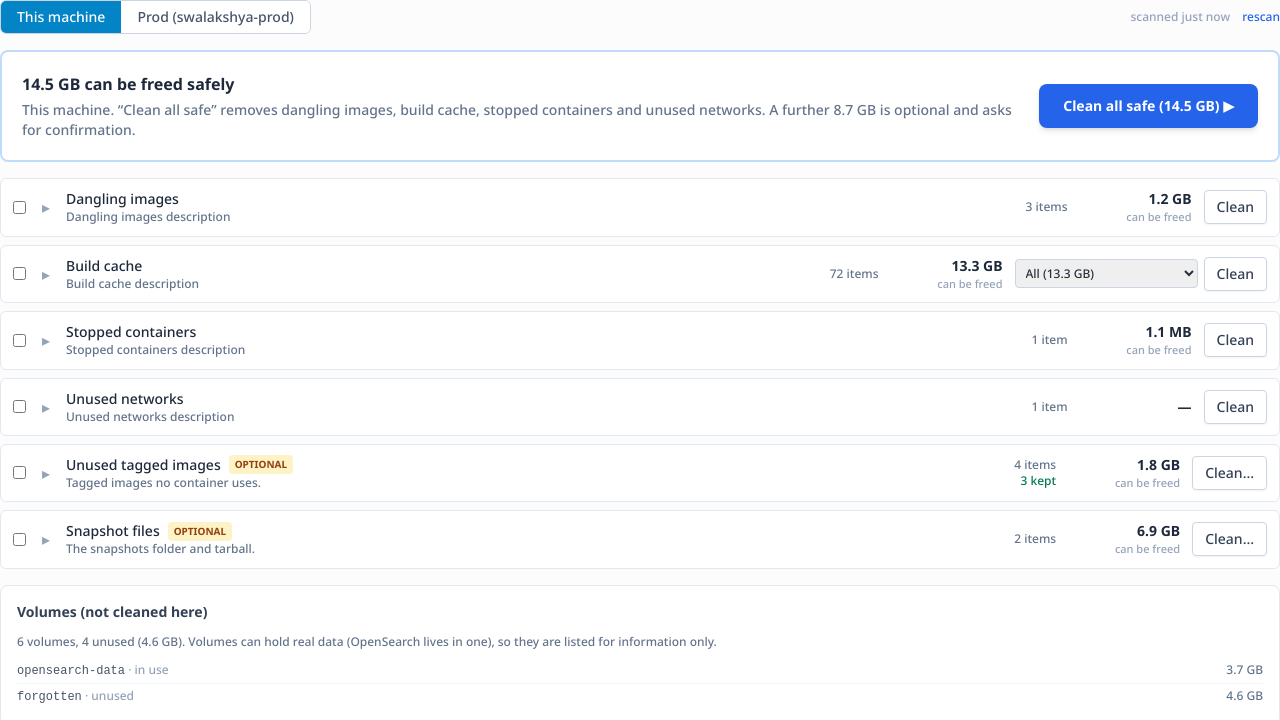
Test: the confirmation for removing images says which ones are kept
Expected: the heading "14.5 GB can be freed safely" is shown, x1=22 y1=73 x2=234 y2=95
Click the button "Clean…" next to "1.8 GB": [1230, 473] box x1=1192 y1=456 x2=1267 y2=490
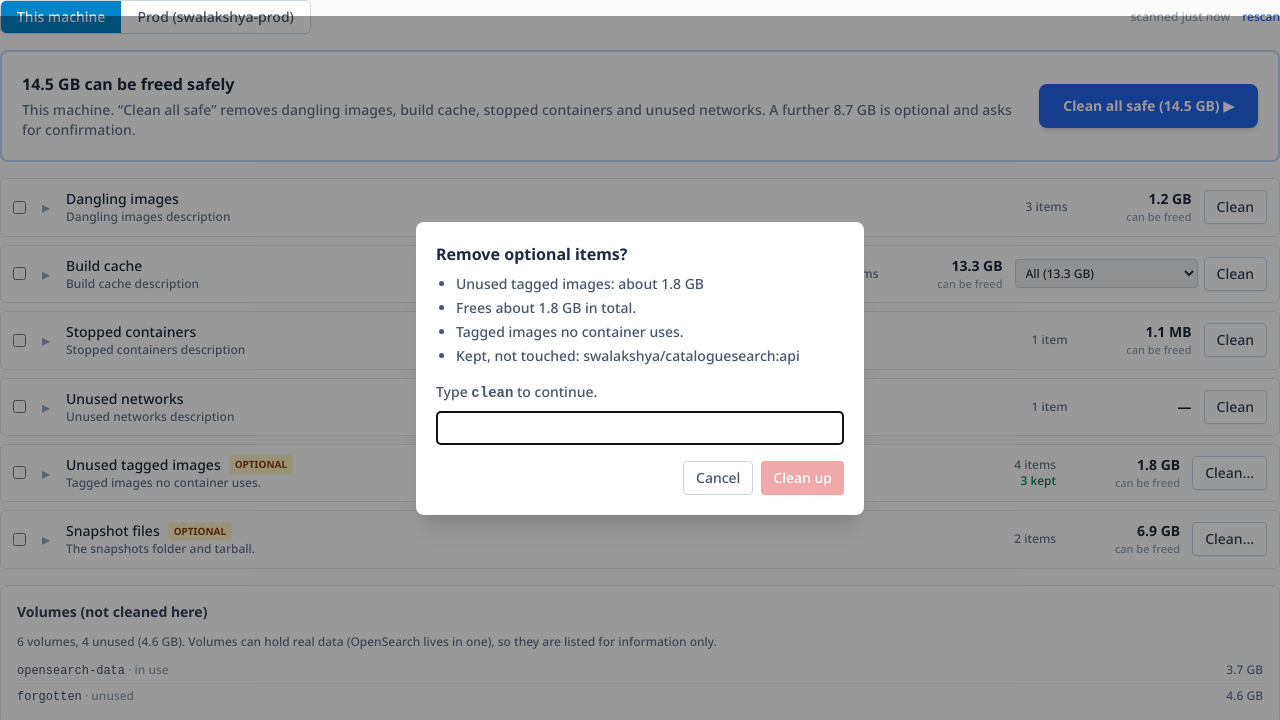
Now the list item "Kept, not touched: swalakshya/cataloguesearch:api" is shown, box x1=456 y1=346 x2=844 y2=366
